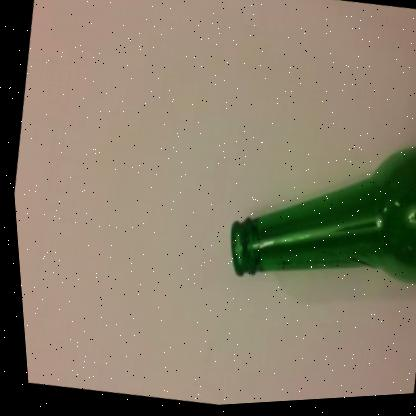Glass: (227, 152, 416, 286)
